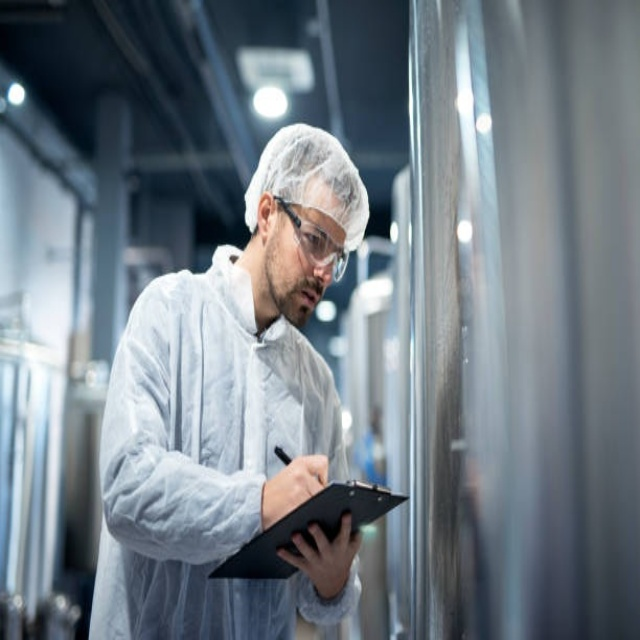Gafas: (278, 197, 349, 283)
Sin_guantes: (281, 511, 359, 600), (261, 447, 333, 532)
Sin_mascara: (282, 279, 328, 320)
